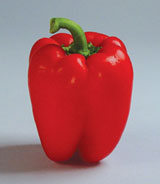capsicum: (26, 16, 135, 165)
